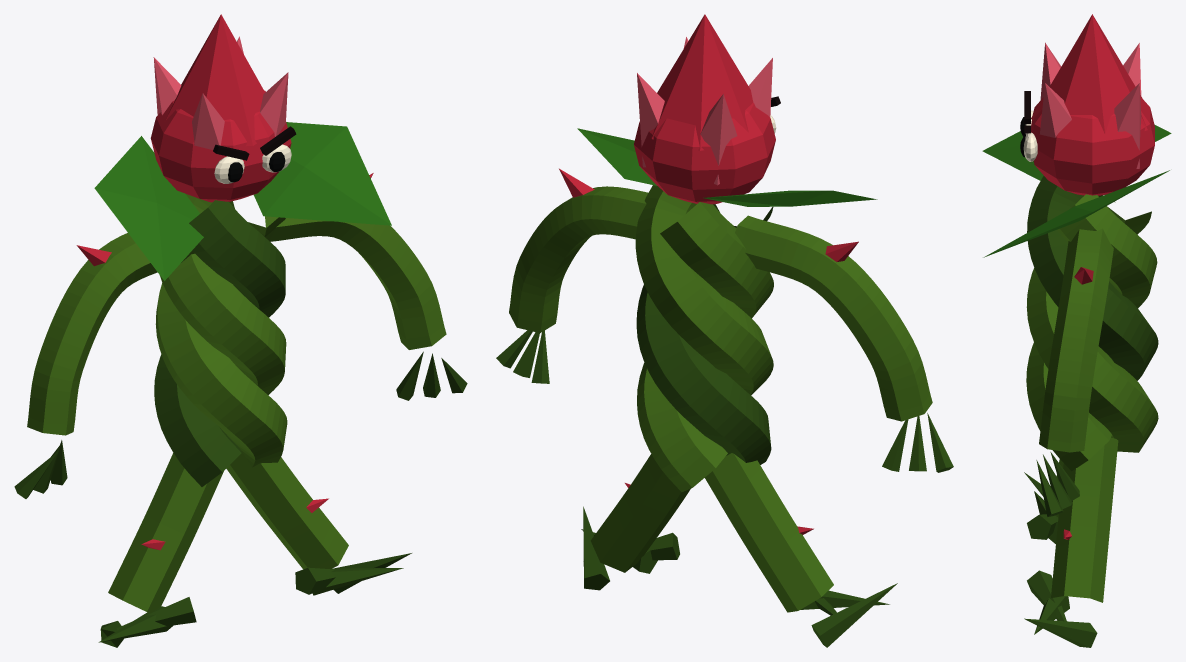
Rendered from thorn-vine.glb.
3 renders of one model, left to right at view 1: azimuth 30°, elevation 25°; view 2: azimuth 150°, elevation 25°; view 3: azimuth 270°, elevation 25°, orthographic. The views are drawn at different scales.
Parts seen in each view (by area): view 1: vine_body_1, arm_-1_0, vine_body_0, leaf_1, vine_body_2, leg_-1_0, leaf_-1, arm_1_0, head, leg_1_0, bud_tip, petal_1 (+6 smaller); view 2: arm_-1_0, vine_body_2, vine_body_0, vine_body_1, arm_1_0, leg_-1_0, head, bud_tip, leg_1_0, leaf_-1, leaf_1, root_-1_0 (+5 smaller); view 3: arm_1_0, head, leg_1_0, vine_body_1, vine_body_2, vine_body_0, bud_tip, leaf_1, leaf_-1, root_1_2, petal_0, petal_3 (+9 smaller).
Part boxes in pixels (box(x1,y1,x2,y2)): vine_body_1: box(154, 200, 285, 486); arm_-1_0: box(27, 233, 194, 435); vine_body_0: box(155, 201, 287, 467); leaf_1: box(254, 122, 391, 225); vine_body_2: box(159, 193, 286, 394); leg_-1_0: box(108, 453, 223, 613); leaf_-1: box(94, 136, 203, 280); arm_1_0: box(265, 216, 446, 349); head: box(150, 90, 291, 202); leg_1_0: box(226, 452, 348, 569); bud_tip: box(165, 14, 264, 146); petal_1: box(192, 93, 224, 149); arm_-1_0: box(735, 215, 932, 421); vine_body_2: box(637, 202, 773, 491); vine_body_0: box(635, 185, 773, 395); vine_body_1: box(636, 204, 773, 464); arm_1_0: box(509, 186, 648, 332); leg_-1_0: box(705, 453, 833, 612); head: box(634, 102, 775, 204); bud_tip: box(651, 14, 753, 150); leg_1_0: box(590, 454, 690, 572); leaf_-1: box(703, 190, 877, 206); leaf_1: box(577, 128, 656, 185); root_-1_0: box(811, 583, 897, 647); arm_1_0: box(1039, 228, 1113, 452); head: box(1031, 96, 1154, 195); leg_1_0: box(1051, 437, 1118, 602); vine_body_1: box(1027, 176, 1158, 380); vine_body_2: box(1026, 195, 1158, 452); vine_body_0: box(1026, 194, 1157, 471); bud_tip: box(1031, 14, 1147, 134); leaf_1: box(983, 170, 1169, 257); leaf_-1: box(982, 124, 1171, 180); root_1_2: box(1024, 618, 1097, 647); petal_0: box(1039, 83, 1071, 137); petal_3: box(1114, 83, 1141, 168).
Size of the model in its own units: 2.82 by 3.6 by 1.07.
